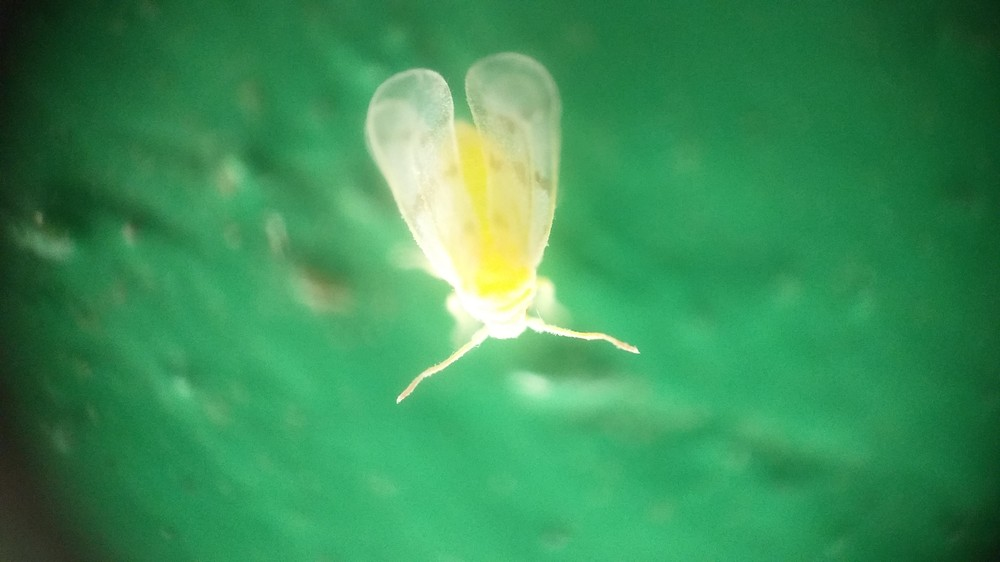Mosca Blanca: (348, 43, 695, 421)
